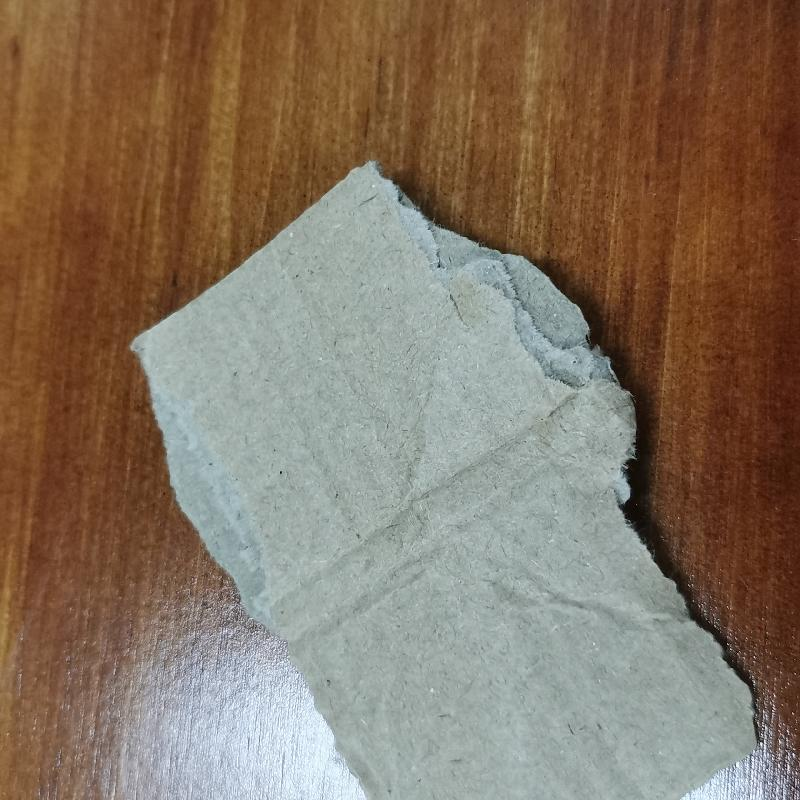boxes: (120, 154, 766, 799)
